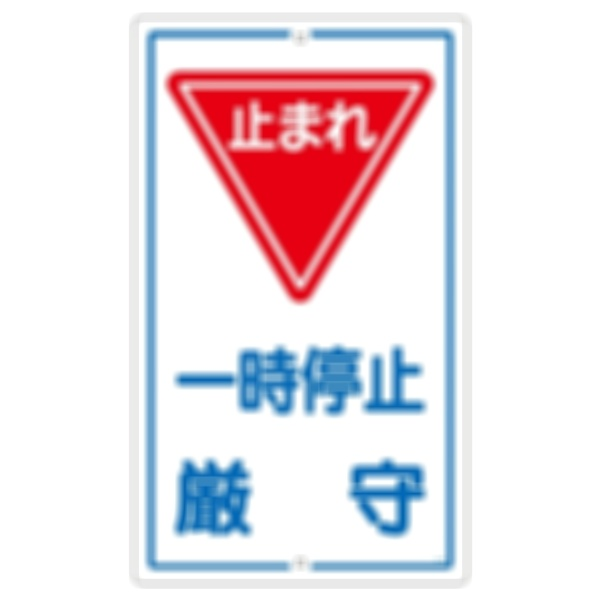Regulatory_sign_triangle: (166, 62, 438, 319)
